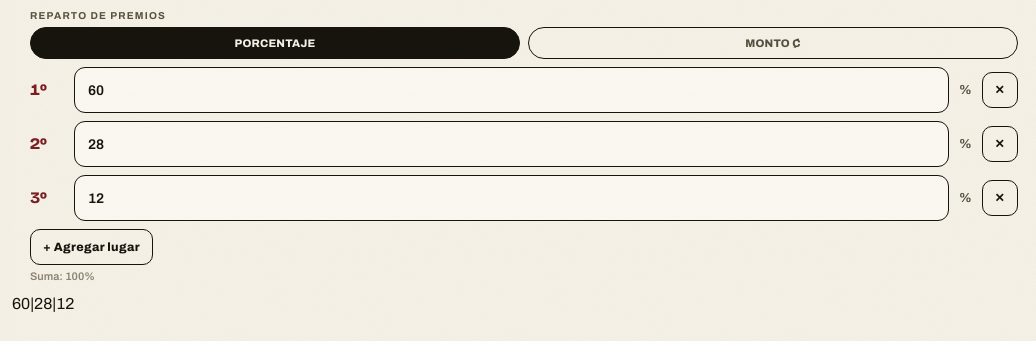
Scenario: PrizeDistributionEditor — Monto ₡ mode › typing amounts derives the percentages from each share of the total
Click the tab "Monto ₡": x=773, y=43 x1=528 y1=27 x2=1018 y2=59
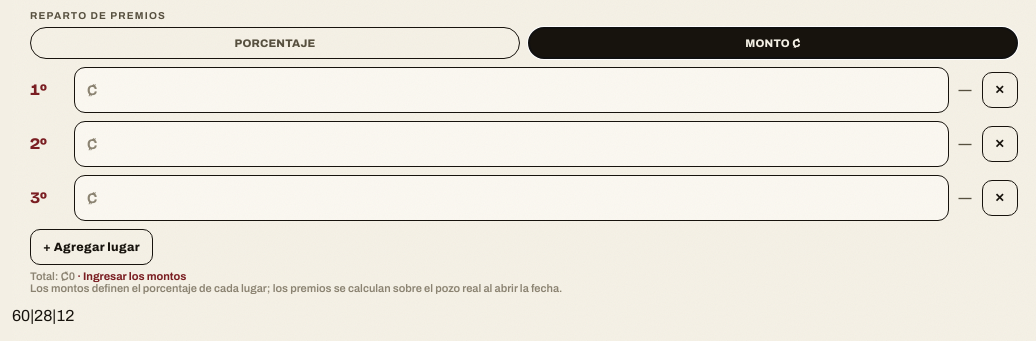
Result: the text with test id "dist-warning" shows "Ingresar los montos" at x1=77 y1=270 x2=186 y2=282
In the field named "Monto 1º lugar": x=511, y=90 x1=74 y1=67 x2=949 y2=113, type "60000"
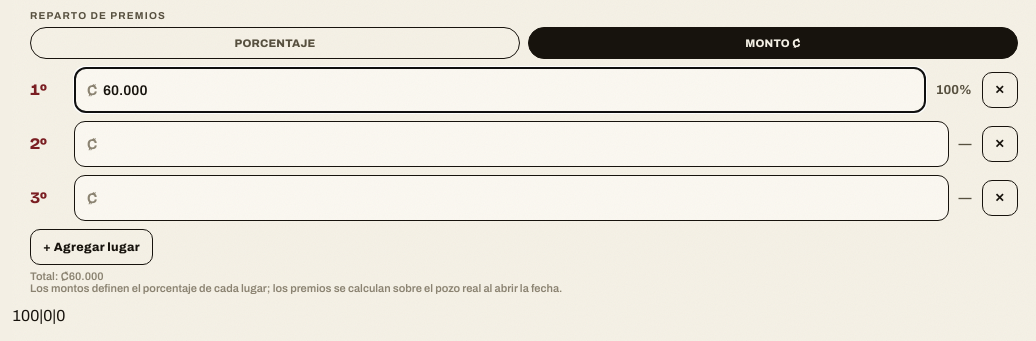
In the field named "Monto 2º lugar": x=511, y=144 x1=74 y1=121 x2=949 y2=167, type "30000"
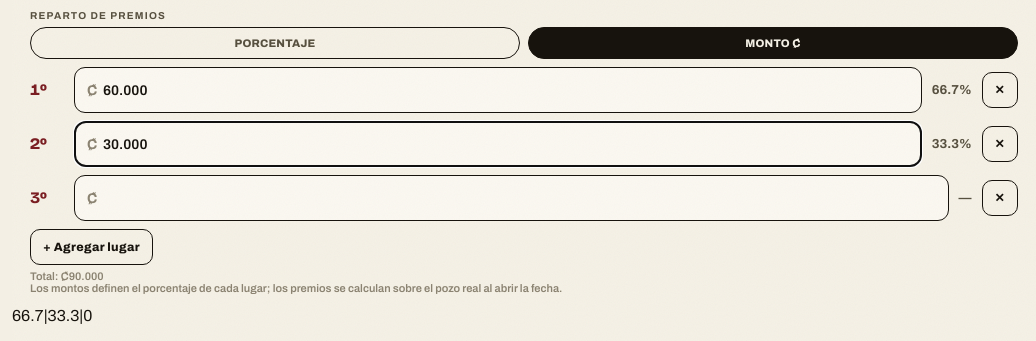
In the field named "Monto 3º lugar": x=511, y=198 x1=74 y1=175 x2=949 y2=221, type "10000"
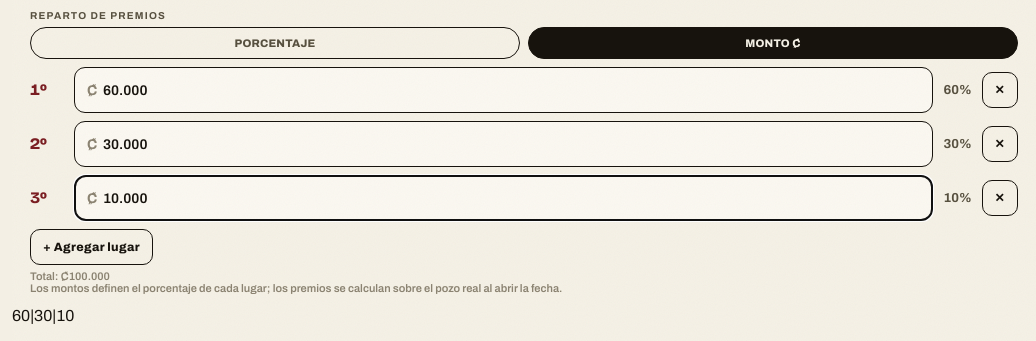
Result: the field named "Monto 1º lugar" holds "60.000" at x1=74 y1=67 x2=933 y2=113
Result: the element with test id "dist-sum" shows "Total: ₡100.000" at x1=30 y1=270 x2=562 y2=294
Result: the text with test id "dist-pct-derived-1" reads "60%" at x1=943 y1=83 x2=972 y2=97
// Back to % keeps the derived split as the editable percentages.
Click the tab "Porcentaje": x=275, y=43 x1=30 y1=27 x2=520 y2=59
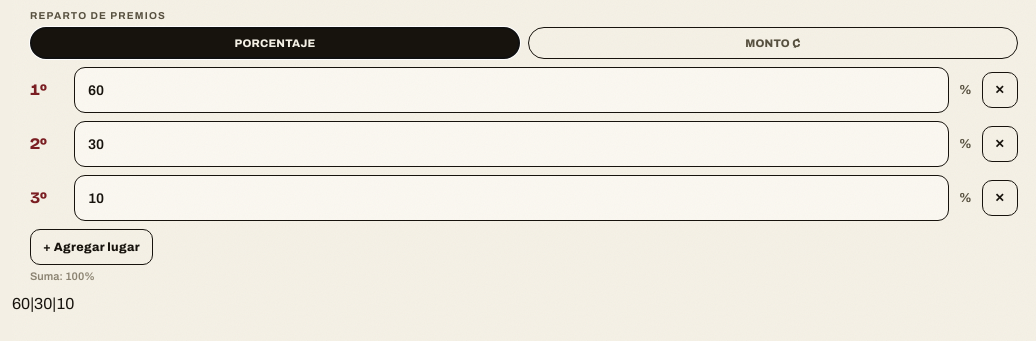
Result: the field named "Porcentaje 1º lugar" holds "60" at x1=74 y1=67 x2=949 y2=113
Result: the text with test id "dist-sum" reads "Suma: 100%" at x1=30 y1=270 x2=95 y2=282
